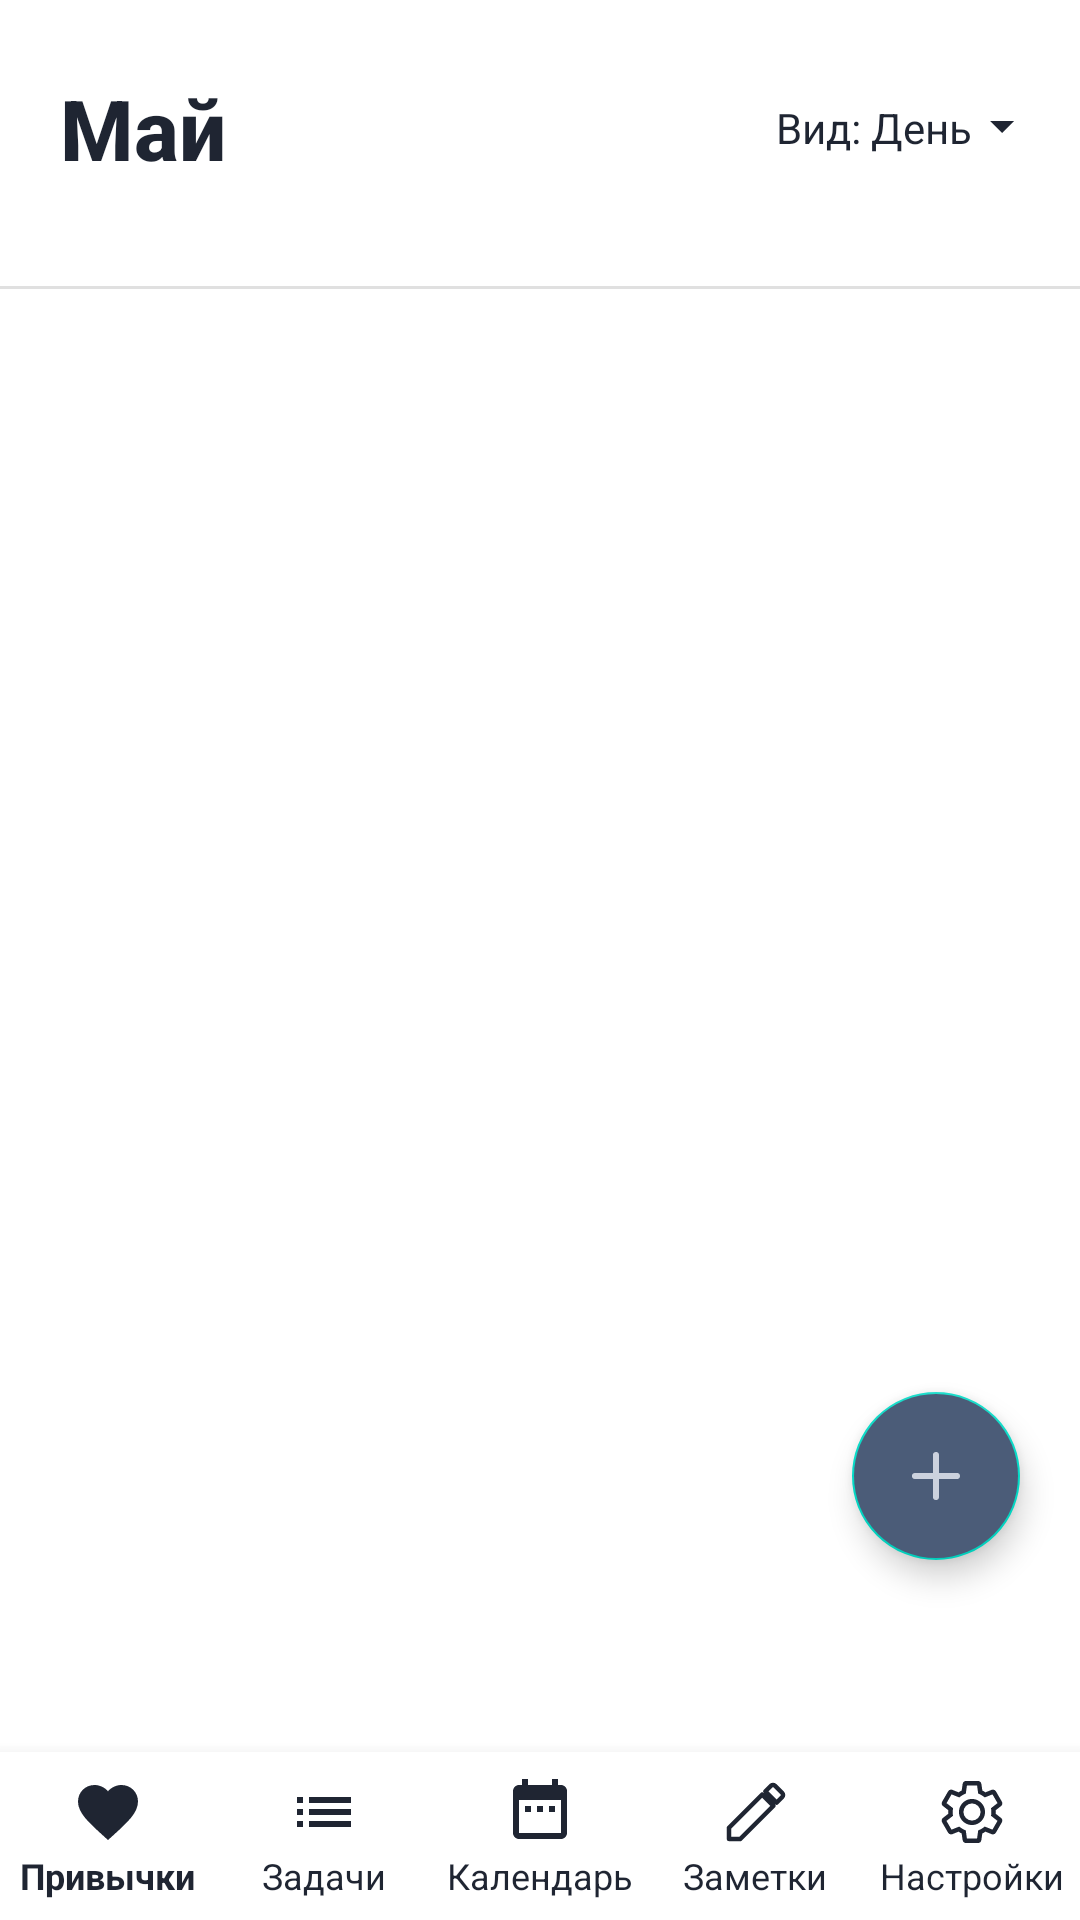

Named icons in this screenshot (1080×1920) and their centers, [x,y]:
add: [936,1476]
